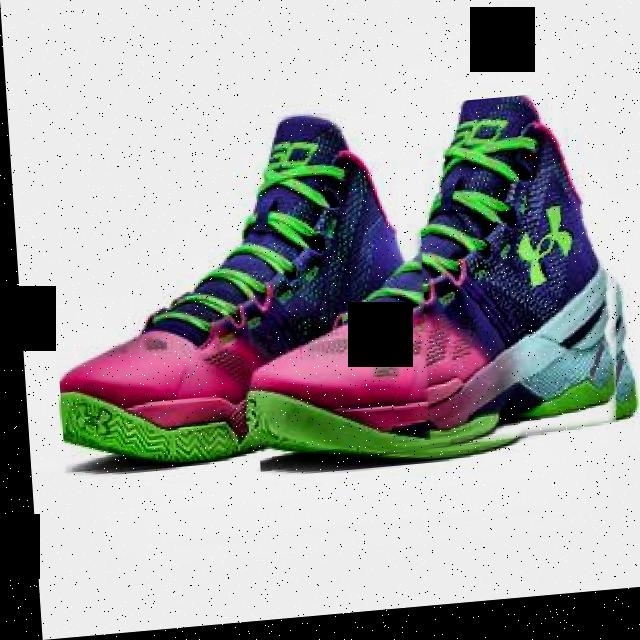shoe: (235, 98, 634, 477), (41, 108, 431, 474)
